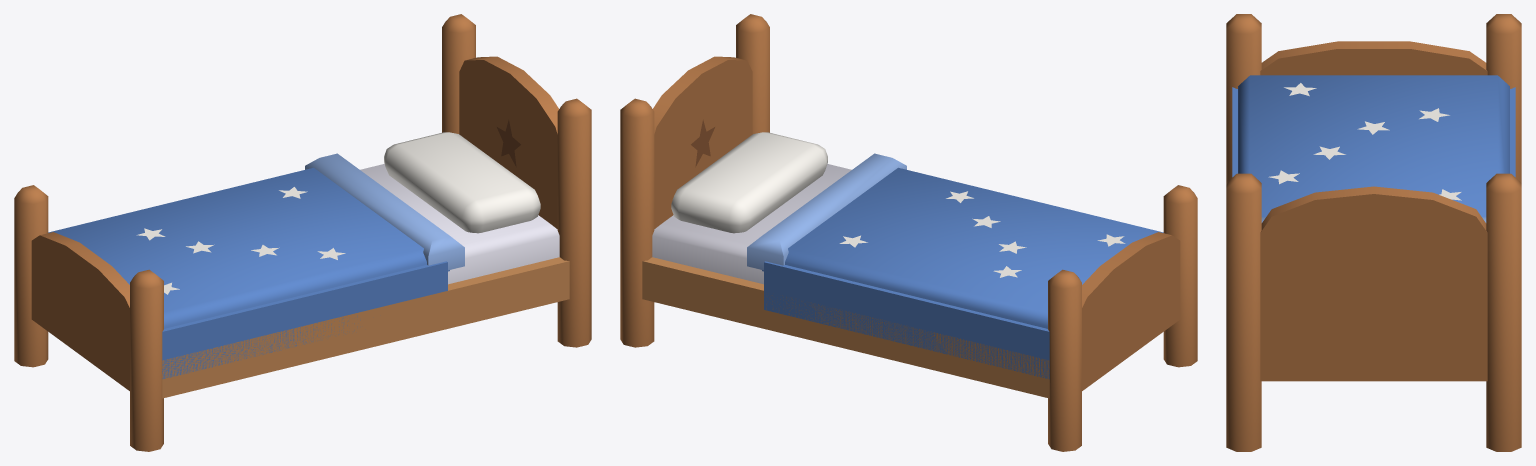
File: bed.glb
3 renders of one model, left to right at view 1: azimuth 30°, elevation 25°; view 2: azimuth 150°, elevation 25°; view 3: azimuth 270°, elevation 25°, orthographic. The views are drawn at different scales.
Visible parts, largest first — view 1: bed; view 2: bed; view 3: bed.
Boxes of the visible parts, x1,y1,x2,y2 form: bed: (14, 14, 591, 451); bed: (620, 14, 1197, 451); bed: (1226, 14, 1521, 451).
Bounding box in the file's own units: 2 × 1 × 1.
1 material, 1 textured.
